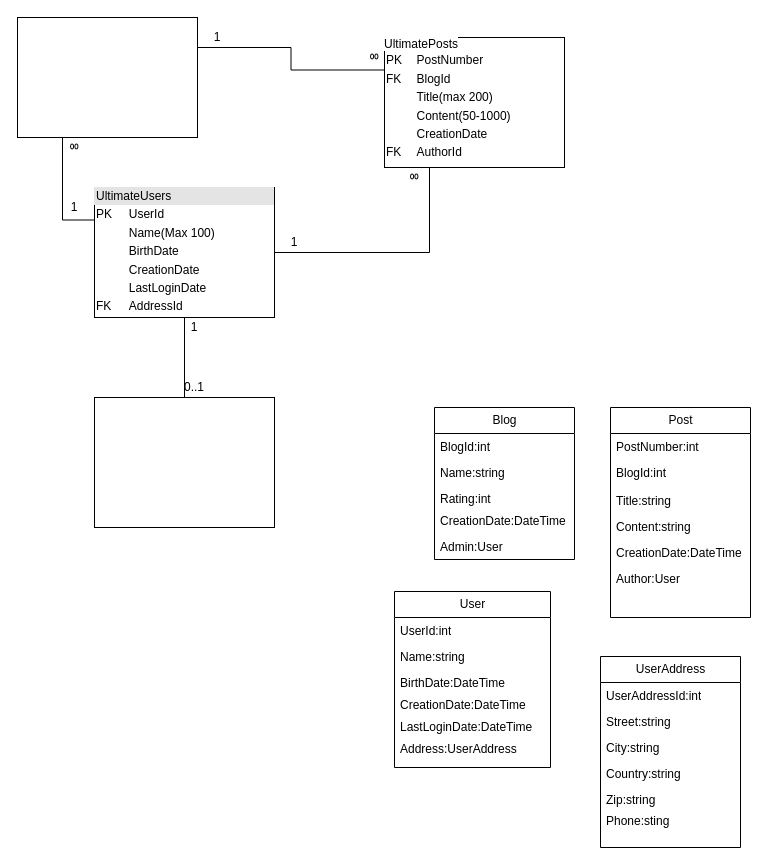
Some shapes in this 768 by 865 pixel diagram are drawn without their labels. Here are the shapes that lost their labels. From the top down, the centre of each, then its label:
the point at 107,77: UltimateBlogs PK BlogId Name(10-100) Rating(1-5) CreationDate FK AdminId
the point at 184,462: UltimateUserAddresses PK UserAddressId Street City Country Zip Phone
